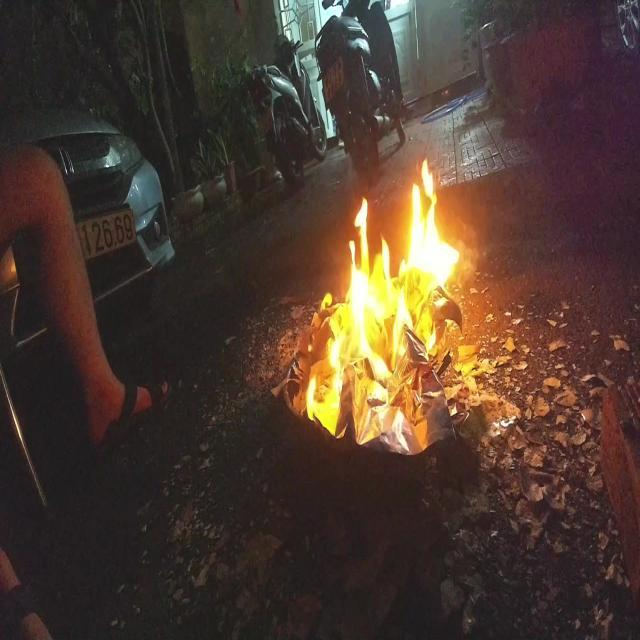Fire: (306, 154, 462, 434)
